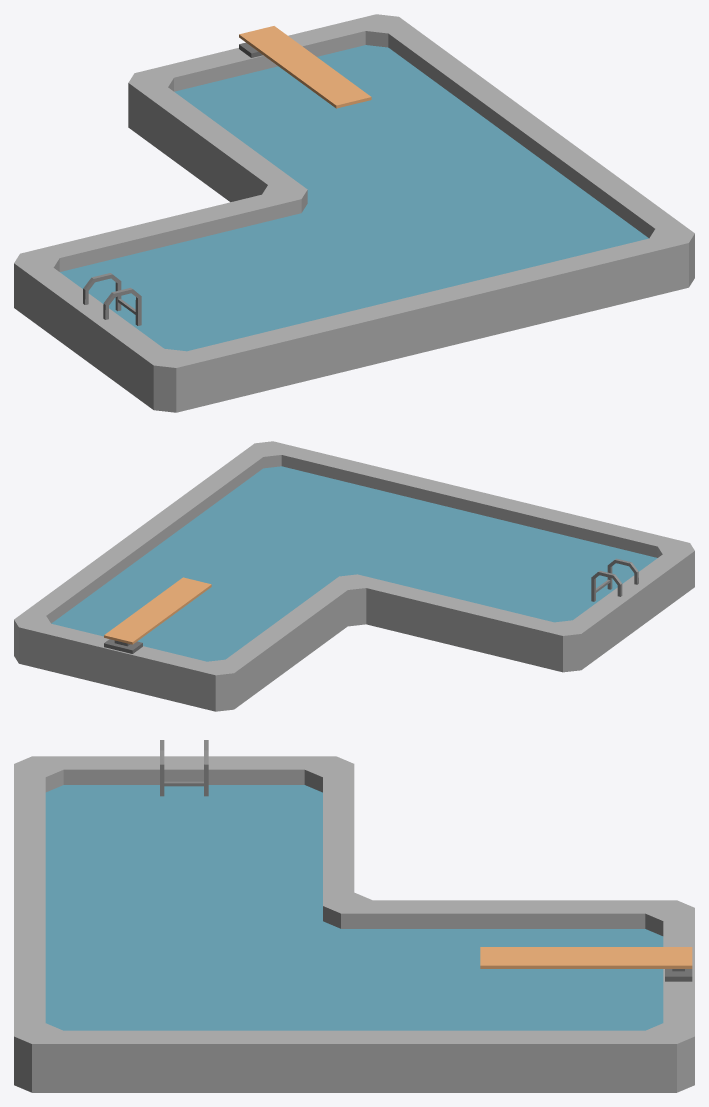
The model's file is Pool_01.fbx.
3 renders of one model, top to bottom at view 1: azimuth 30°, elevation 25°; view 2: azimuth 150°, elevation 25°; view 3: azimuth 270°, elevation 25°, orthographic. The views are drawn at different scales.
Parts seen in each view (by area): view 1: Pool_01; view 2: Pool_01; view 3: Pool_01.
Boxes of the visible parts, bbox=[...] form: Pool_01: bbox=[14, 14, 694, 412]; Pool_01: bbox=[14, 441, 694, 711]; Pool_01: bbox=[14, 740, 694, 1092].
Size of the model in its own units: 400 by 48.61 by 400.
